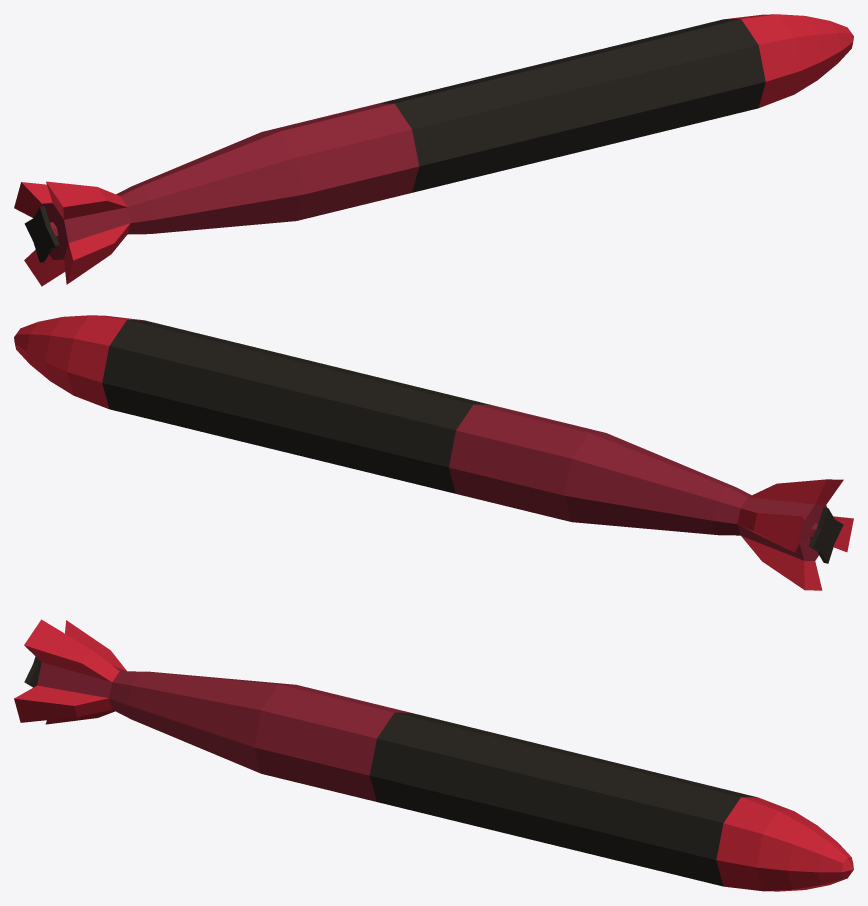
File: Weapon_Torpedo.obj
3 views of the same model, one above another, from view 1: azimuth 30°, elevation 25°; view 2: azimuth 150°, elevation 25°; view 3: azimuth 330°, elevation 25° (orthographic).
Parts seen in each view (by area): view 1: TorpedoTest; view 2: TorpedoTest; view 3: TorpedoTest.
Part boxes in pixels (box(x1,y1,x2,y2)): TorpedoTest: box(14, 14, 853, 286); TorpedoTest: box(14, 315, 853, 590); TorpedoTest: box(14, 619, 853, 891).
Size of the model in its own units: 2.91 by 0.3702 by 0.368.
1 material, 1 textured.
